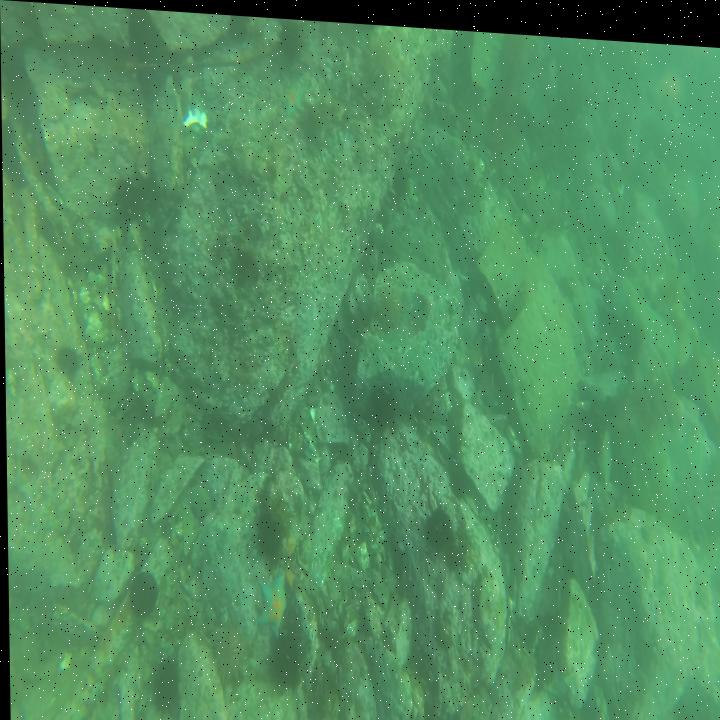echinus: (207, 613, 246, 688), (418, 487, 457, 557), (363, 24, 402, 93), (266, 621, 300, 694), (146, 650, 181, 719), (124, 564, 161, 625), (251, 504, 285, 564), (366, 371, 398, 430), (112, 168, 143, 223), (371, 275, 402, 322), (51, 338, 82, 384), (276, 14, 303, 58)
scallop: (181, 103, 210, 135)
starfish: (250, 565, 286, 634), (277, 70, 310, 119)
